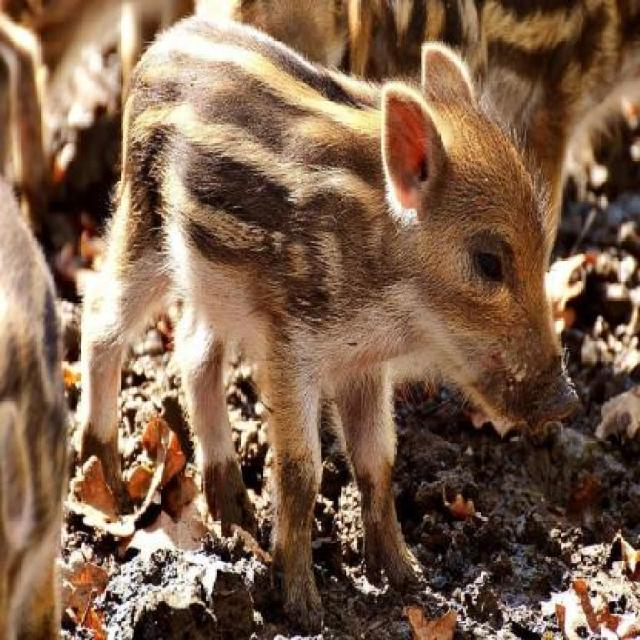wildboar: (69, 0, 583, 640)
